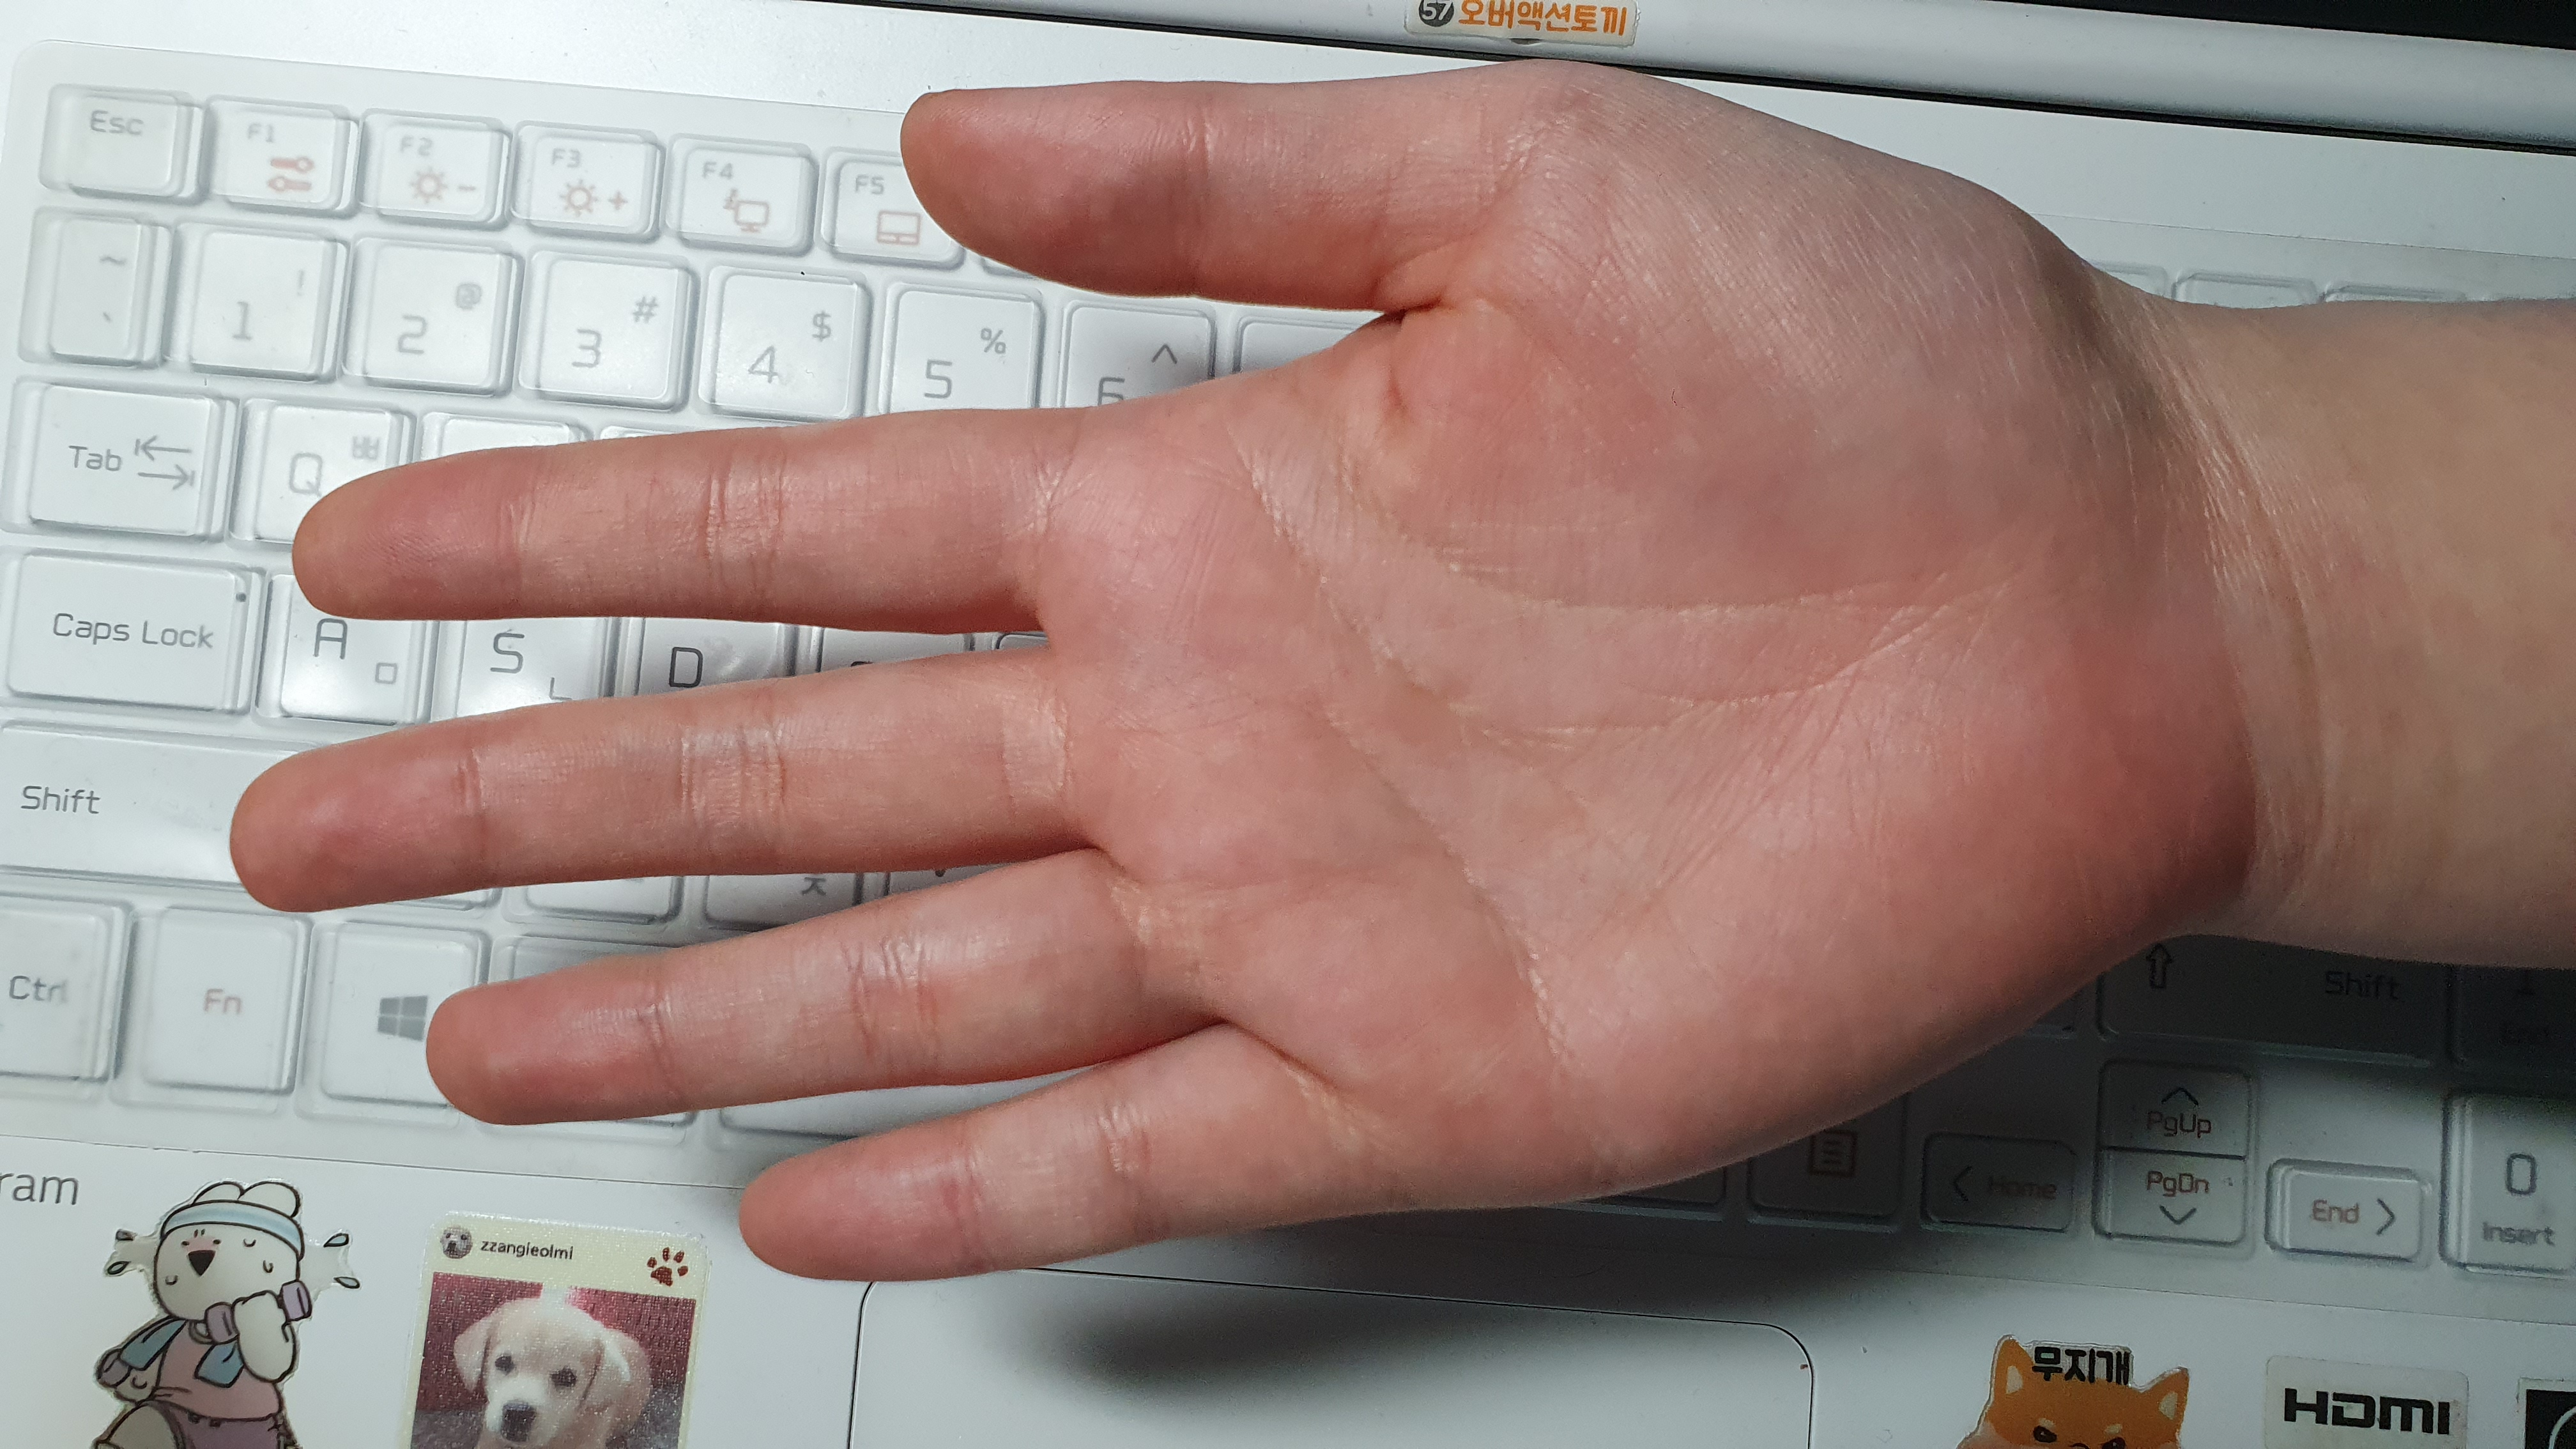hand: (221, 81, 2093, 1295)
index finger: (304, 409, 1092, 637)
middle finger: (249, 649, 1074, 927)
palm: (1138, 253, 2203, 1155)
pinky: (754, 1046, 1304, 1295)
ring finger: (425, 847, 1146, 1136)
thumb: (885, 69, 1523, 311)
